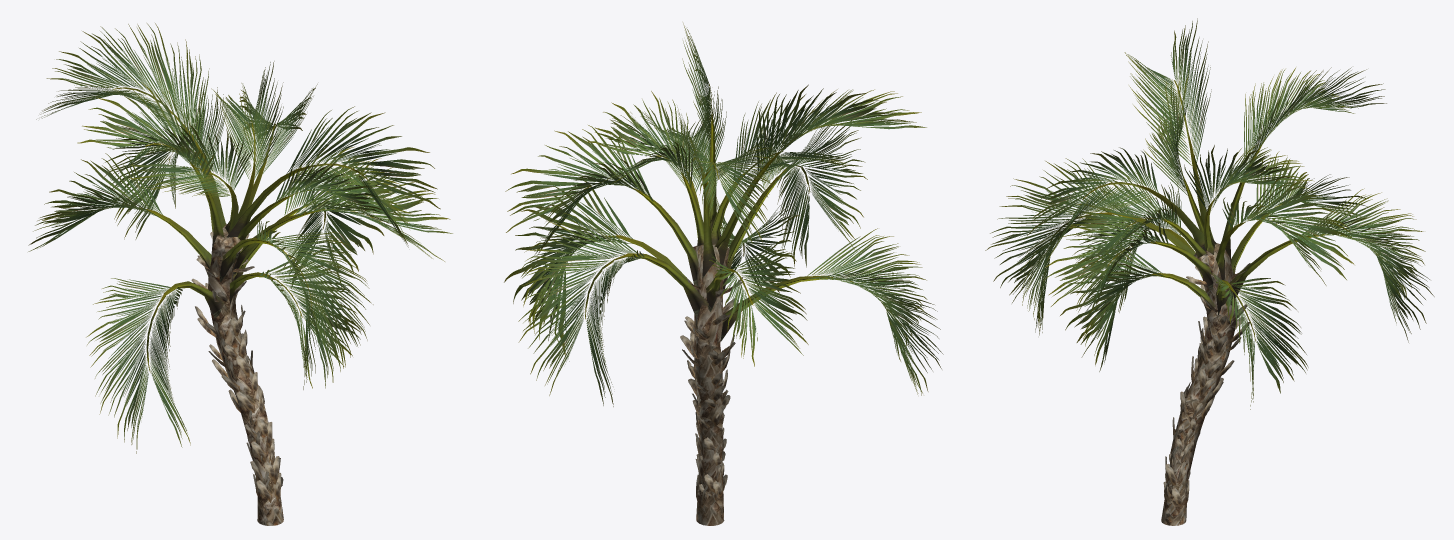
The model's file is palm-small.glb.
3 views of the same model, side by side, from view 1: azimuth 30°, elevation 25°; view 2: azimuth 150°, elevation 25°; view 3: azimuth 270°, elevation 25° (orthographic). The views are drawn at different scales.
Visible parts, largest first — view 1: Tree_1_Tree_1Mat_0, Tree_3_Tree_3Mat_0, Tree_0_Tree_0Mat_0, Tree_2_Tree_2Mat_0; view 2: Tree_1_Tree_1Mat_0, Tree_3_Tree_3Mat_0, Tree_0_Tree_0Mat_0, Tree_2_Tree_2Mat_0; view 3: Tree_1_Tree_1Mat_0, Tree_3_Tree_3Mat_0, Tree_0_Tree_0Mat_0, Tree_2_Tree_2Mat_0.
Part boxes in pixels (x1,y1,x2,y2): Tree_1_Tree_1Mat_0: [28, 23, 452, 453]; Tree_3_Tree_3Mat_0: [140, 117, 320, 317]; Tree_0_Tree_0Mat_0: [208, 223, 283, 525]; Tree_2_Tree_2Mat_0: [191, 232, 283, 502]; Tree_1_Tree_1Mat_0: [504, 23, 943, 406]; Tree_3_Tree_3Mat_0: [605, 113, 839, 341]; Tree_0_Tree_0Mat_0: [693, 244, 729, 525]; Tree_2_Tree_2Mat_0: [680, 277, 743, 505]; Tree_1_Tree_1Mat_0: [985, 18, 1434, 409]; Tree_3_Tree_3Mat_0: [1096, 133, 1326, 319]; Tree_0_Tree_0Mat_0: [1161, 243, 1237, 525]; Tree_2_Tree_2Mat_0: [1163, 263, 1250, 506].
Size of the model in its own units: 1.69 by 2.01 by 1.92.
Materials: 4 (4 with a texture image).
